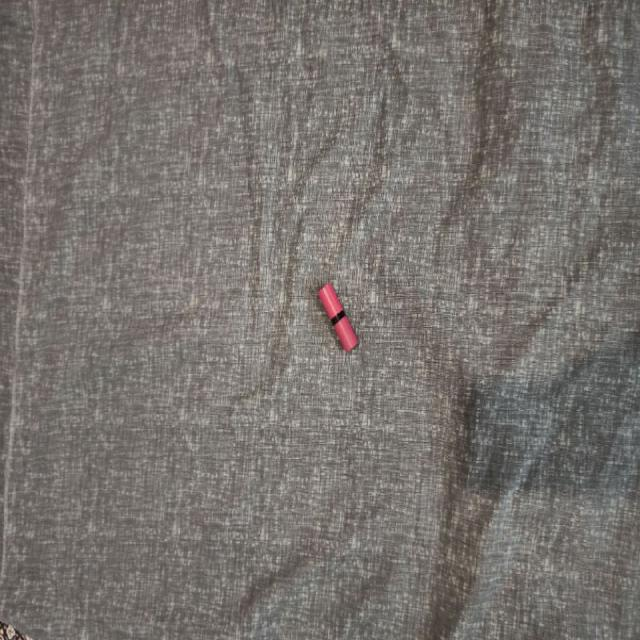lipstick: (317, 281, 359, 353)
